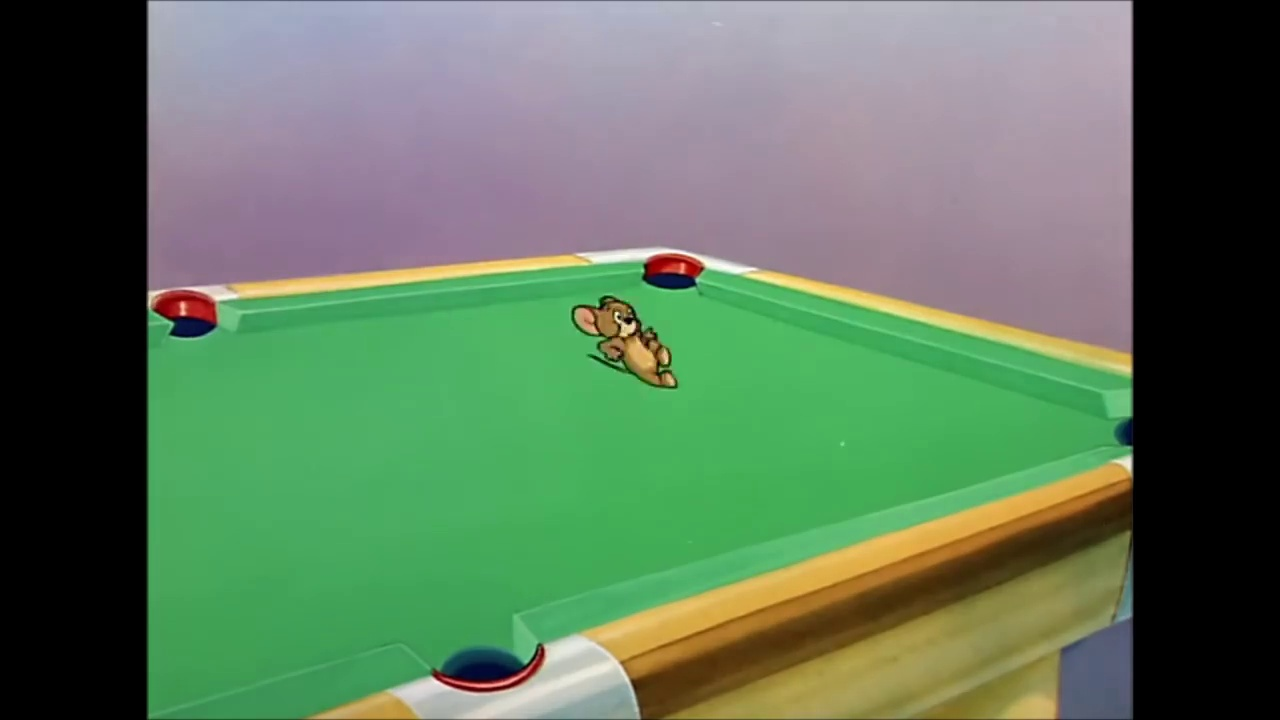sad: (603, 298, 642, 340)
